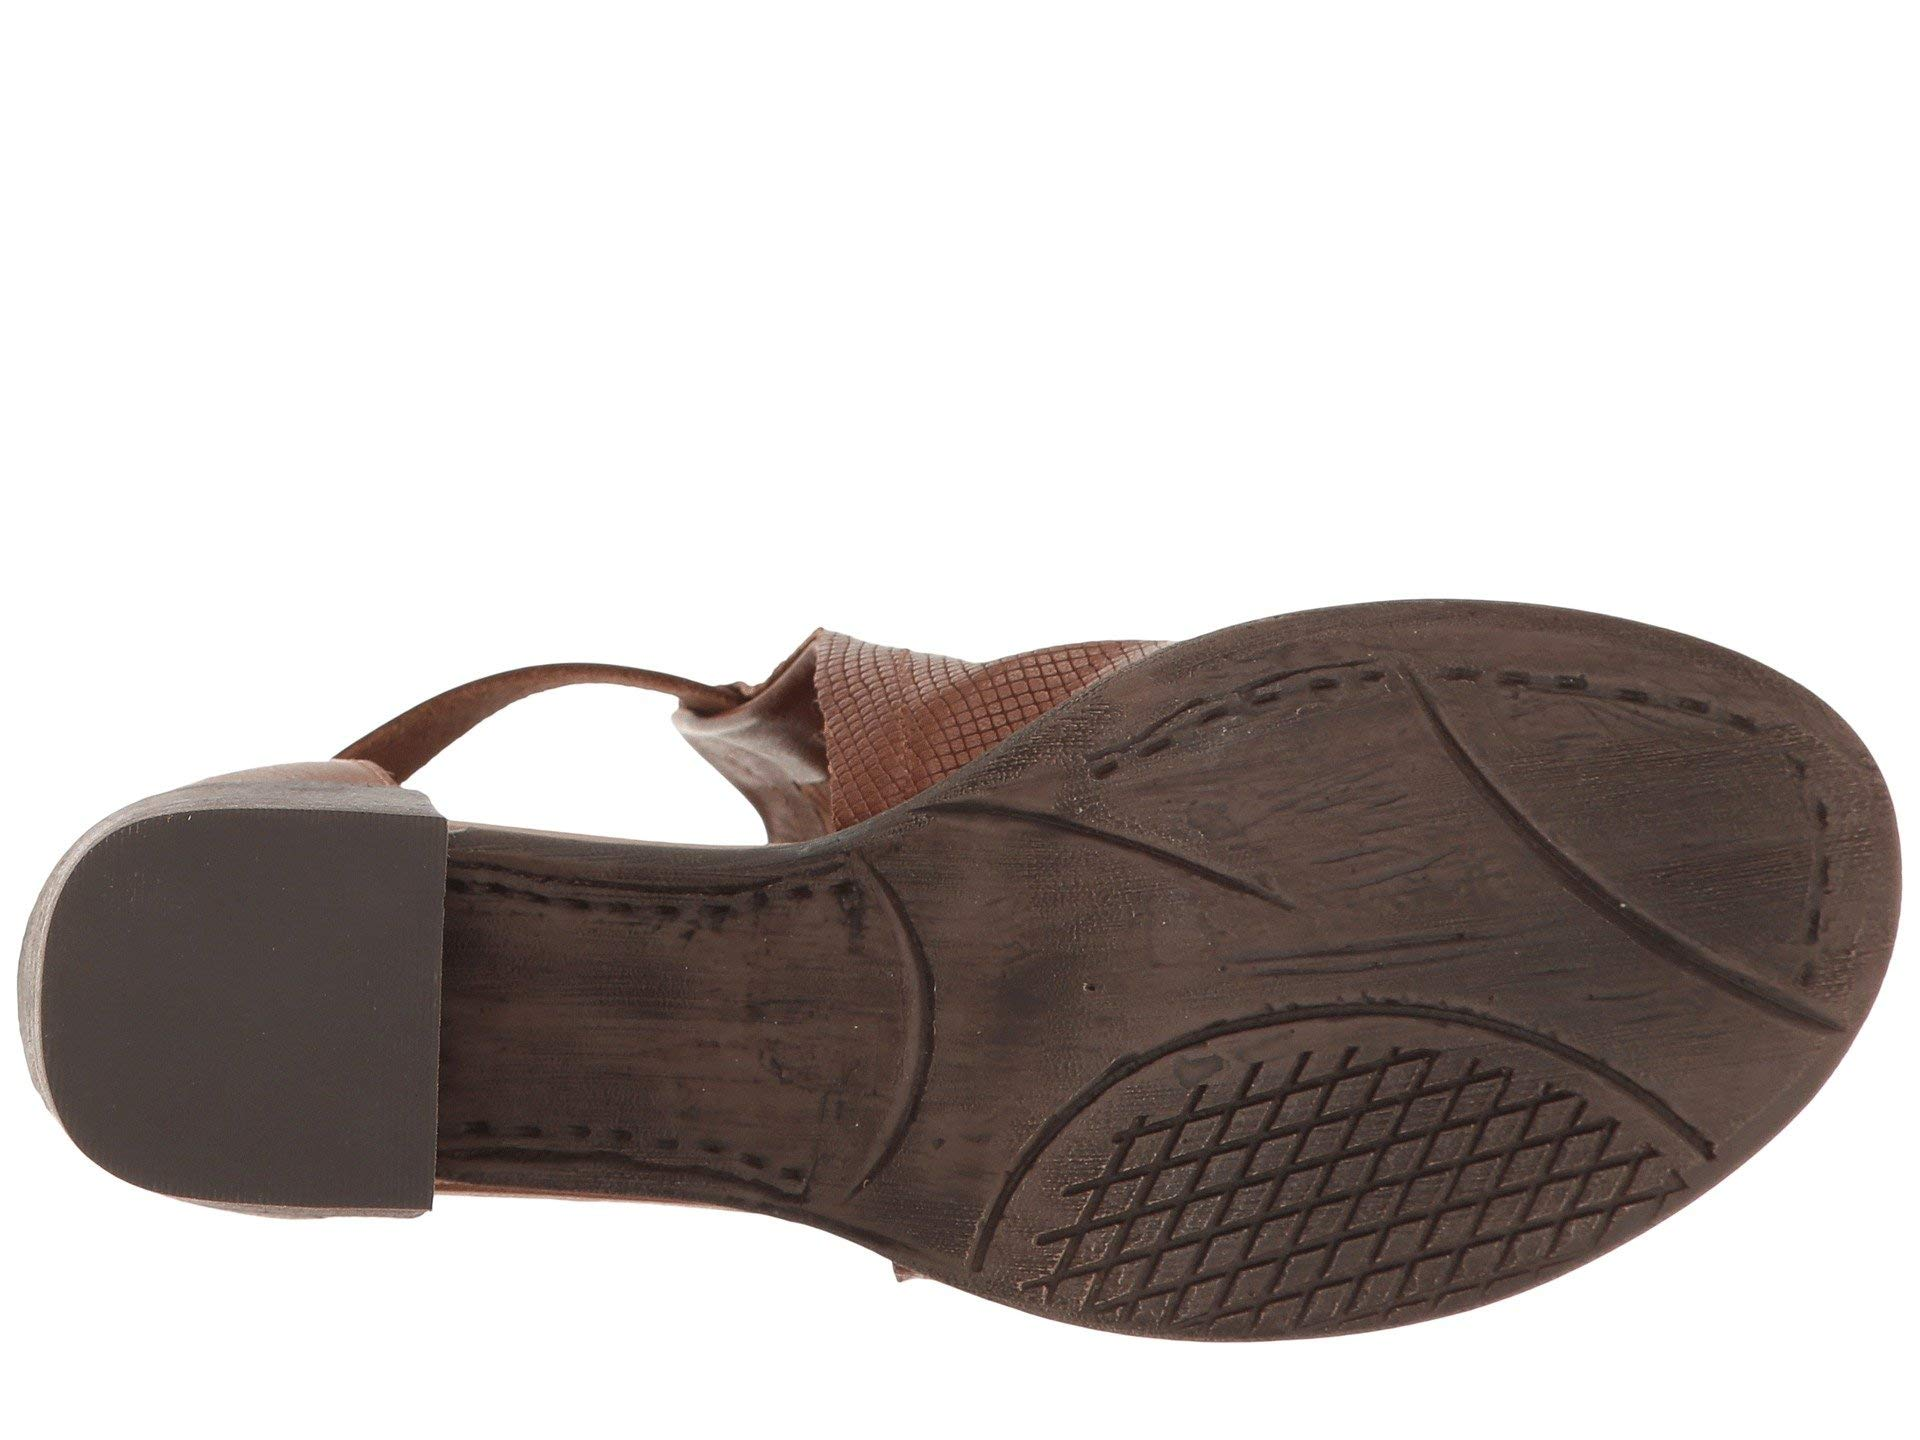quad: (1202, 1072, 1432, 1290)
